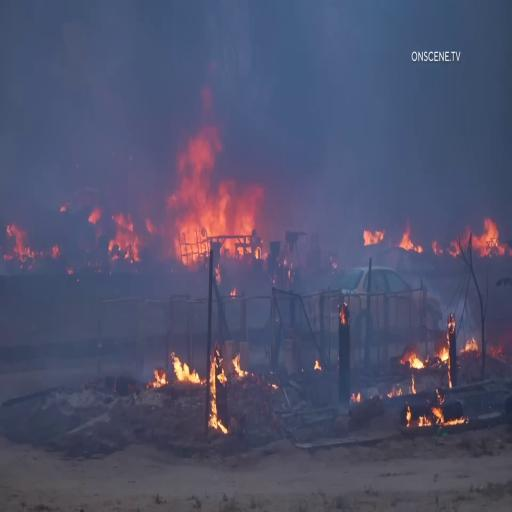fire: (188, 139, 256, 261), (473, 218, 499, 262)
